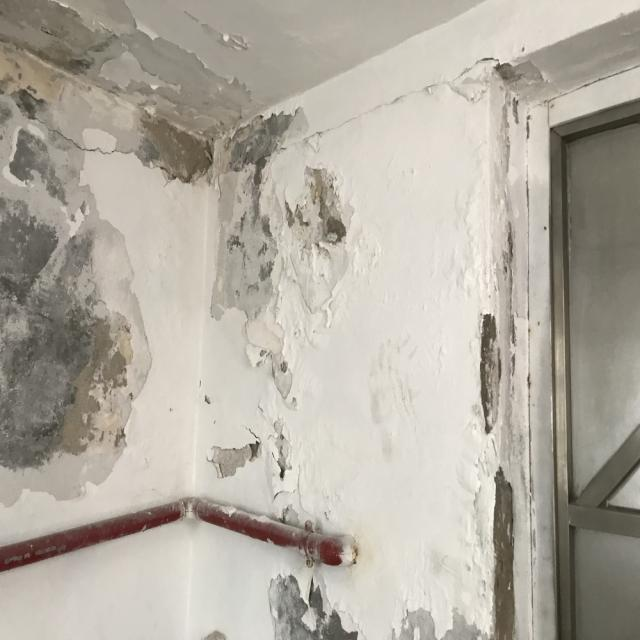Water_Leakage: (2, 0, 608, 640)
